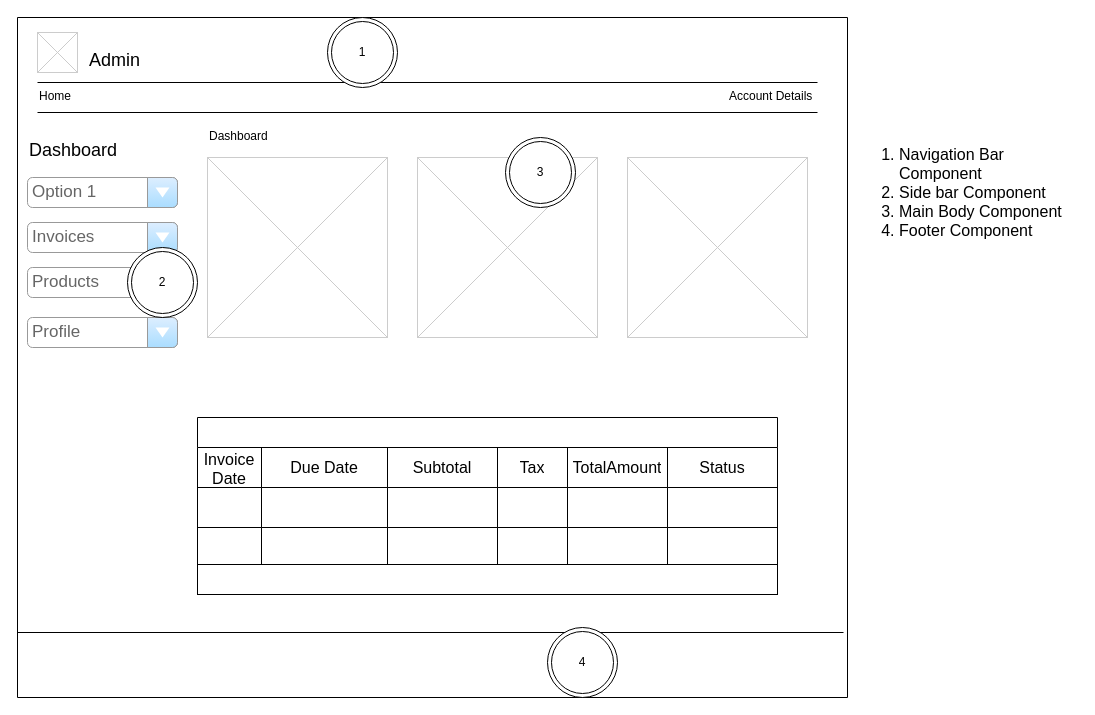
This 1095x715 diagram has some shape labels left out. Here are the shapes that lost their labels. From the top down, the box of each, then its label:
(36, 32, 78, 72): Logo
(196, 416, 778, 568): Customer Invoices
(196, 564, 778, 594): View More
